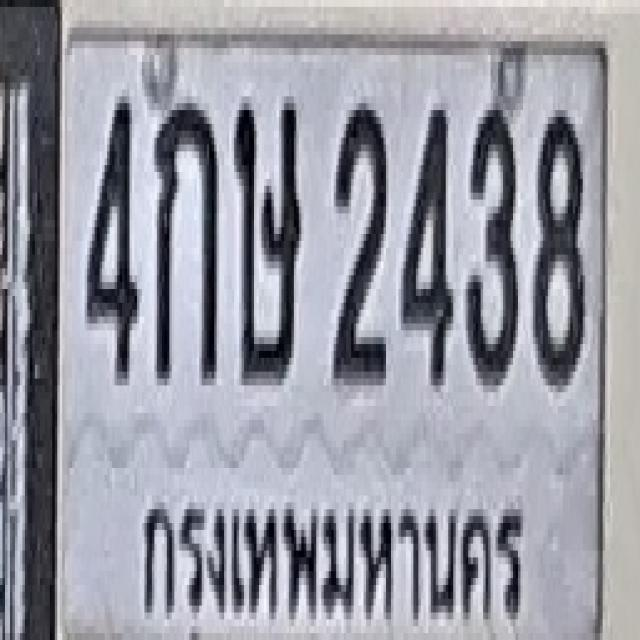2: (332, 100, 388, 382)
3: (466, 82, 518, 386)
4: (400, 100, 452, 389), (85, 90, 137, 378)
8: (532, 104, 584, 386)
A01: (152, 93, 217, 382)
A39: (234, 93, 301, 382)
BKK: (135, 473, 530, 640)
